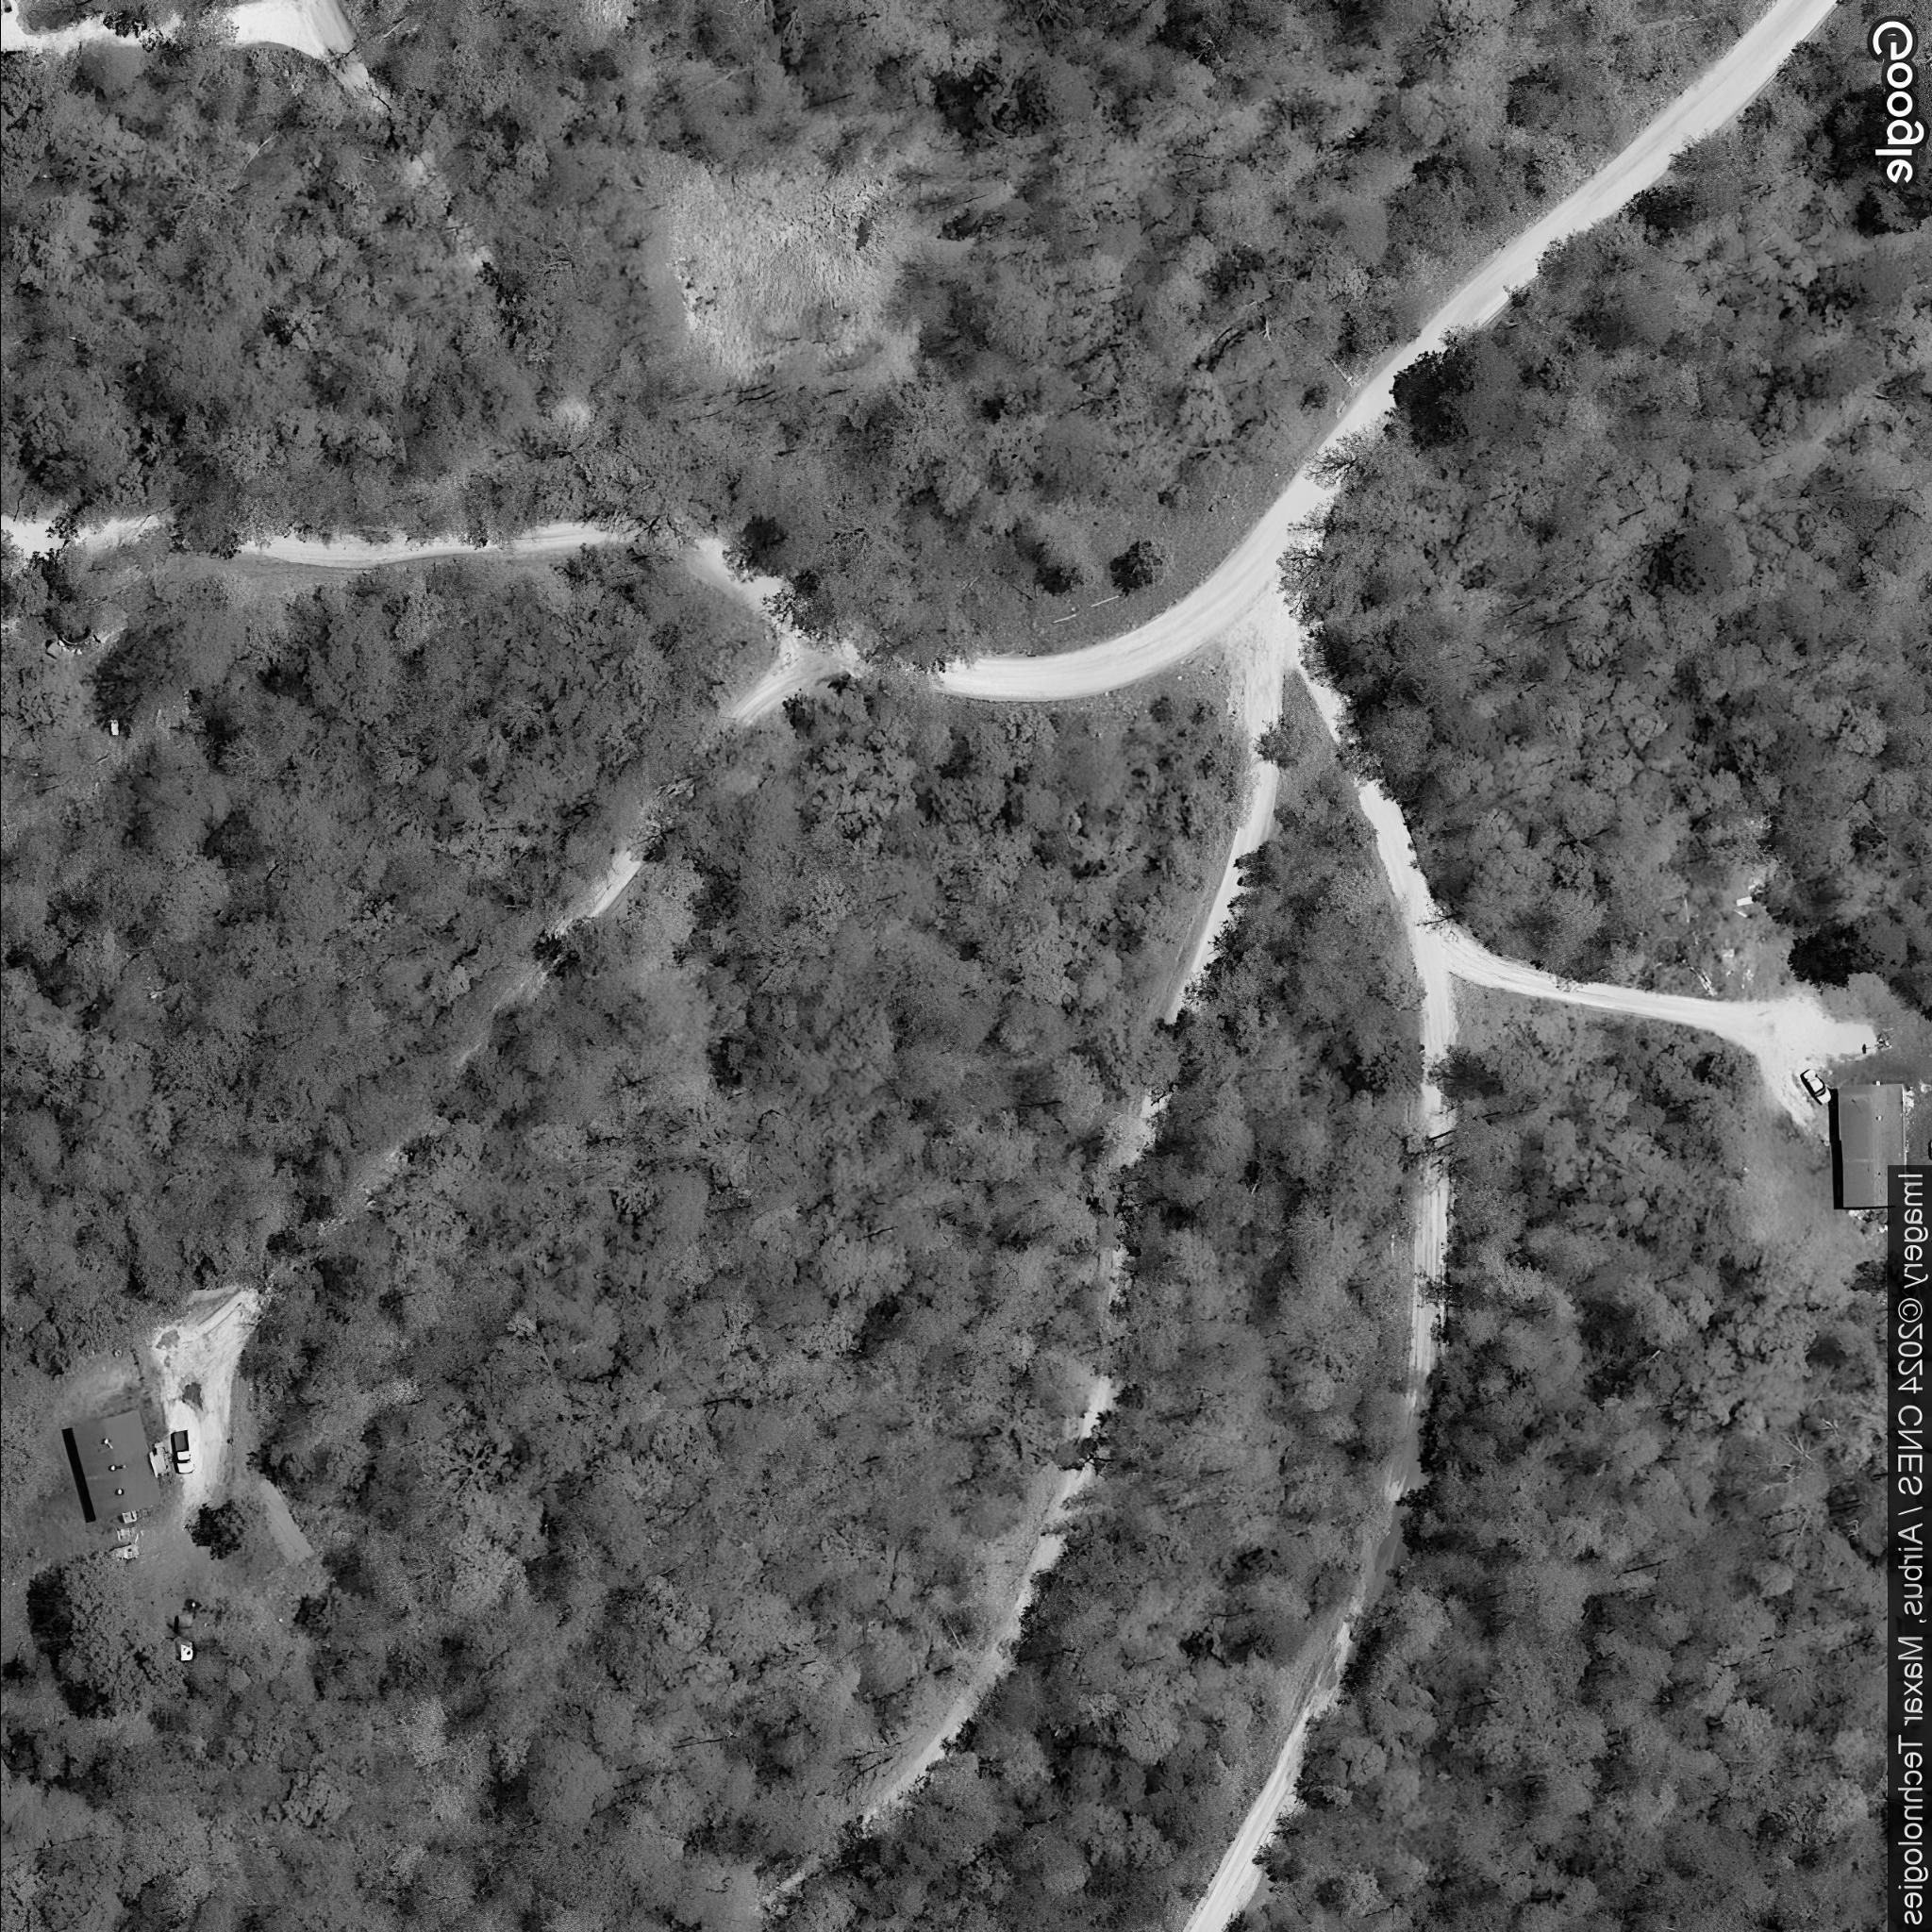House: (69, 1408, 161, 1520), (1836, 1081, 1904, 1210)
